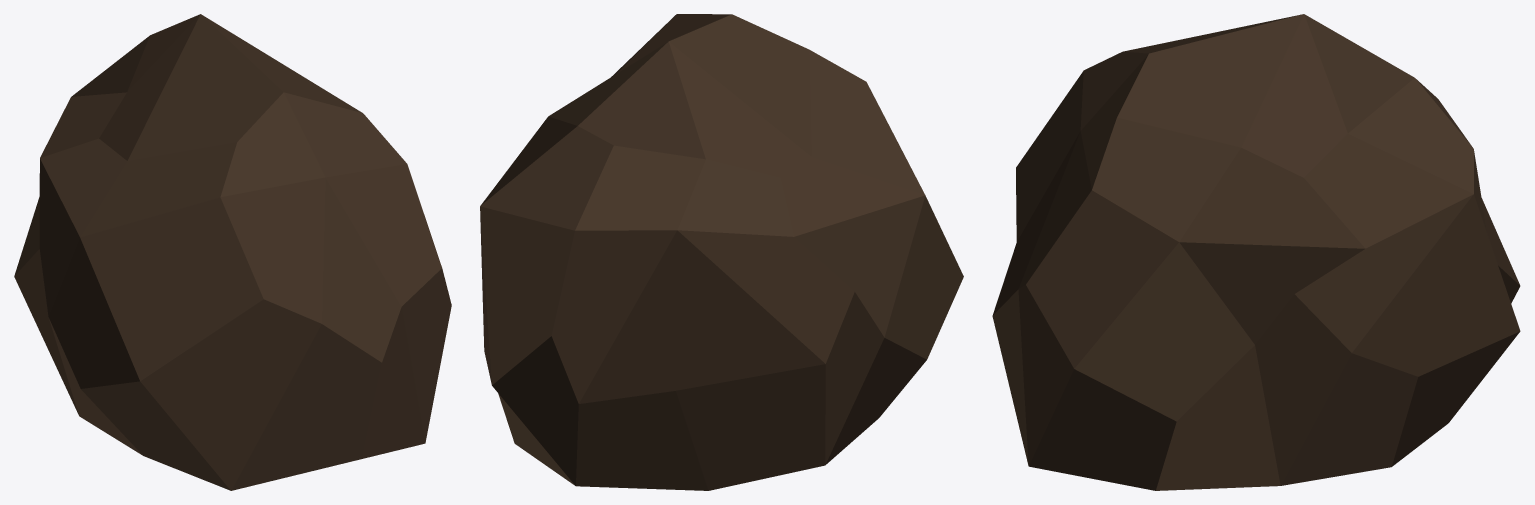
Rendered from Rock_16_Dark_Brown.fbx.
3 renders of one model, left to right at view 1: azimuth 30°, elevation 25°; view 2: azimuth 150°, elevation 25°; view 3: azimuth 270°, elevation 25°, orthographic. The views are drawn at different scales.
Visible parts, largest first — view 1: Rock_16_Dark_Brown; view 2: Rock_16_Dark_Brown; view 3: Rock_16_Dark_Brown.
Boxes of the visible parts, x1,y1,x2,y2 form: Rock_16_Dark_Brown: (14, 14, 451, 490); Rock_16_Dark_Brown: (480, 14, 963, 490); Rock_16_Dark_Brown: (992, 14, 1520, 490).
Bounding box in the file's own units: 287 × 319 × 347.
